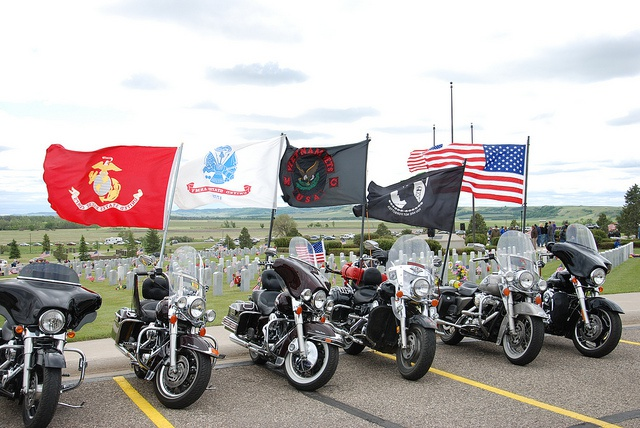non-vehicle: (221, 235, 360, 390), (322, 233, 463, 380), (109, 244, 225, 407), (0, 259, 101, 426), (432, 228, 552, 365), (537, 221, 625, 357)
